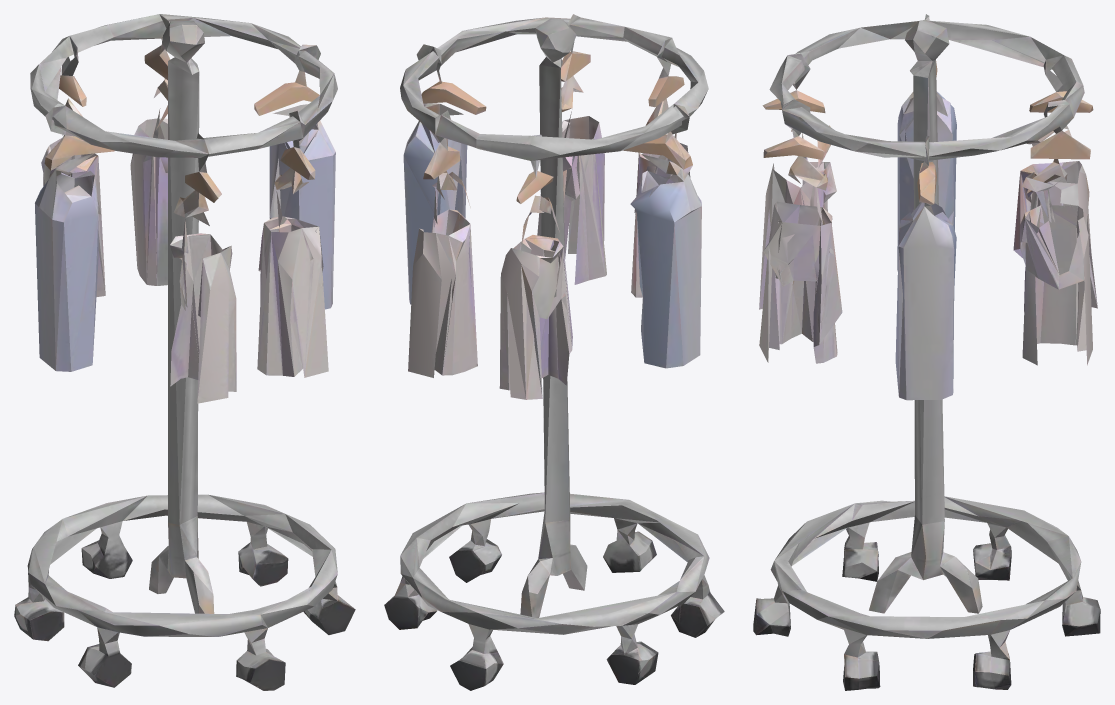
The model's file is shop-clothes-rack.glb.
3 views of the same model, side by side, from view 1: azimuth 30°, elevation 25°; view 2: azimuth 150°, elevation 25°; view 3: azimuth 270°, elevation 25° (orthographic).
Parts seen in each view (by area): view 1: shop-clothes-rack-fit; view 2: shop-clothes-rack-fit; view 3: shop-clothes-rack-fit.
Boxes of the visible parts, x1,y1,x2,y2 form: shop-clothes-rack-fit: [14, 14, 355, 690]; shop-clothes-rack-fit: [384, 14, 724, 690]; shop-clothes-rack-fit: [753, 14, 1100, 690].
Size of the model in its own units: 1.02 by 2.1 by 1.08.
Materials: 1 (1 with a texture image).
